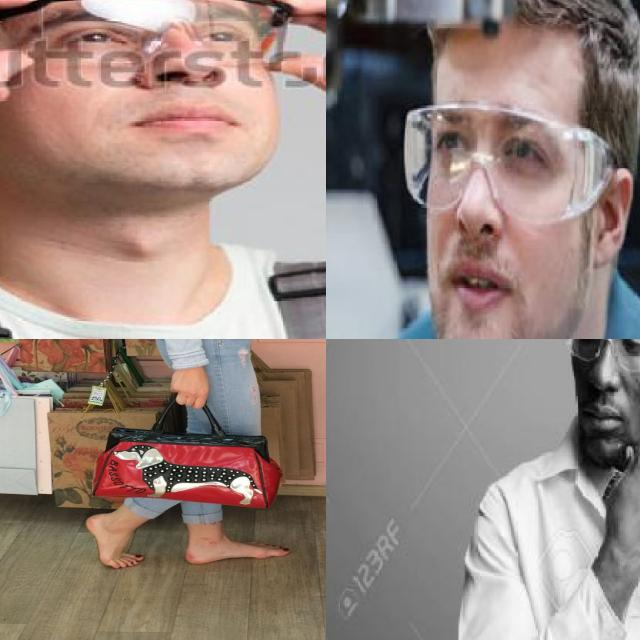Barefoots: (86, 514, 144, 569), (185, 539, 291, 564)
No_Ear-Protection: (579, 162, 639, 266)
face_nomask: (48, 11, 264, 164), (426, 104, 564, 328), (568, 339, 640, 444)
glasses: (402, 101, 612, 228), (0, 0, 297, 70), (563, 339, 640, 377)
hand_noglove: (266, 0, 326, 170), (598, 439, 640, 562)
head_nohelmet: (417, 0, 622, 63)
person: (344, 0, 640, 339), (458, 339, 640, 640)
